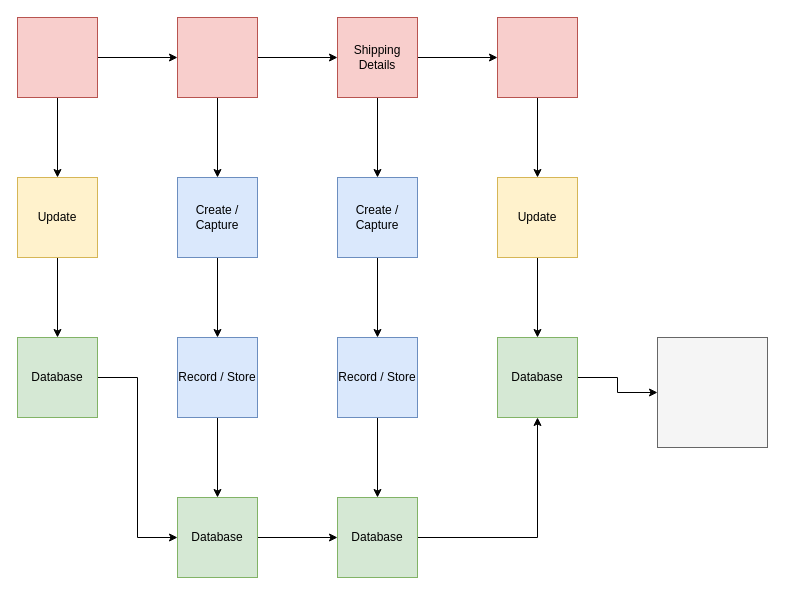
Image size: 785x595. Some labels were removed from this diagram. The shapes that lost their labels are listed below. From the top down, each one's box as (x1, y1, x2, y2) in pixels, then its label:
(16, 16, 98, 98): Catalogue of Books
(176, 16, 258, 98): Payments
(496, 16, 578, 98): Prices
(656, 336, 768, 448): Recomendations
